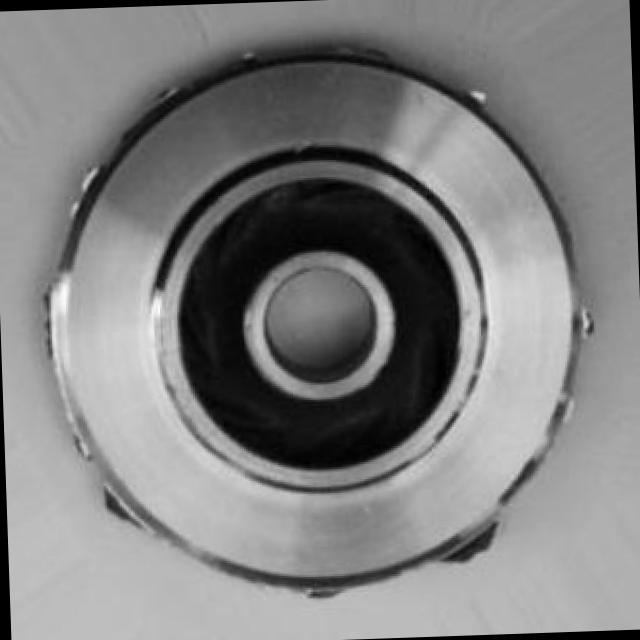Defect: (434, 512, 520, 582)
